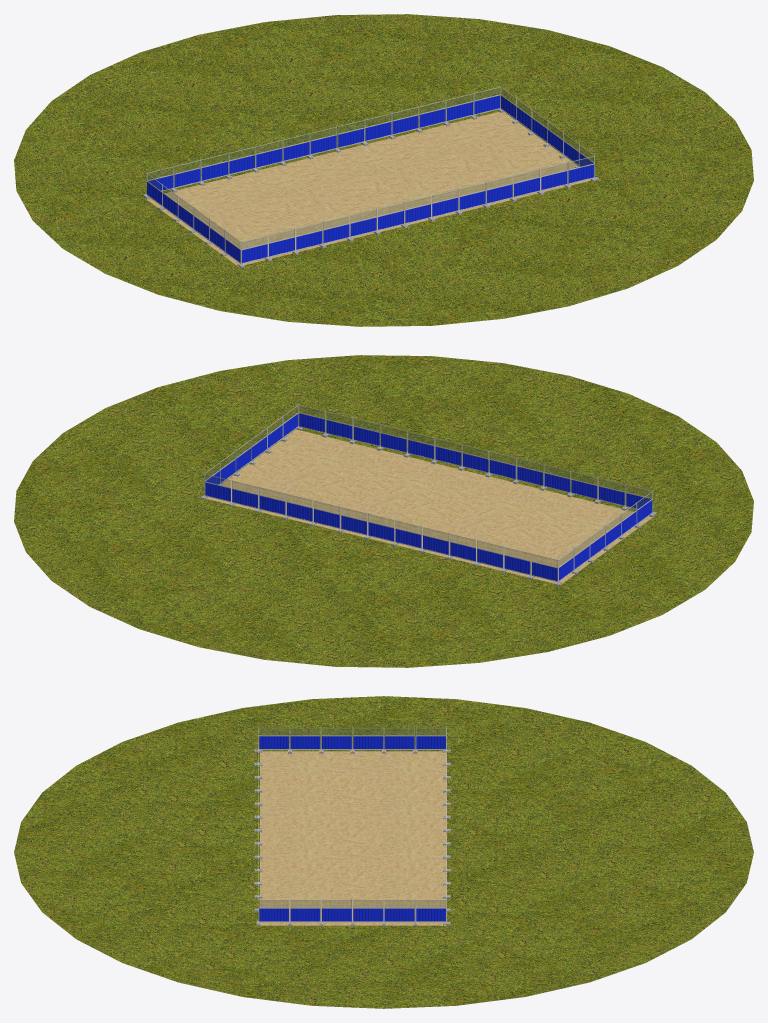
File: baugutSite.glb
The picture shows the model from 3 angles, top to bottom: view 1: azimuth 30°, elevation 25°; view 2: azimuth 150°, elevation 25°; view 3: azimuth 270°, elevation 25°; orthographic projection.
Parts seen in each view (by area): view 1: grassRound, sandDisplace, fence_04.001, fence_020.001, fence_021.001, fence_12.001, fence_026.001, fence_03.001, fence_08.001, fence_13.001, fence_09.001, fence_029.001 (+15 smaller); view 2: grassRound, sandDisplace, fence_09.001, fence_024.001, fence_029.001, fence_04.001, fence_13.001, fence_08.001, fence_025.001, fence_012, fence_031.001, fence_03.001 (+15 smaller); view 3: grassRound, sandDisplace, fence_14.001, fence_17.001, fence_15.001, fence_16.001, fence_18.001, fence_038.001, fence_033.001, fence_035.001, fence_032.001, fence_034.001 (+2 smaller).
Part boxes in pixels (<box>): grassRound: <box>14,14,753,326</box>; sandDisplace: <box>145,112,590,266</box>; fence_04.001: <box>228,146,255,175</box>; fence_020.001: <box>513,168,540,197</box>; fence_021.001: <box>268,228,295,257</box>; fence_12.001: <box>446,93,473,122</box>; fence_026.001: <box>404,195,431,224</box>; fence_03.001: <box>201,153,228,181</box>; fence_08.001: <box>337,119,364,148</box>; fence_13.001: <box>473,86,500,115</box>; fence_09.001: <box>365,112,391,142</box>; fence_029.001: <box>486,175,512,204</box>; grassRound: <box>14,355,753,667</box>; sandDisplace: <box>206,429,653,584</box>; fence_09.001: <box>313,500,340,529</box>; fence_024.001: <box>516,457,543,486</box>; fence_029.001: <box>380,424,407,453</box>; fence_04.001: <box>449,533,476,562</box>; fence_13.001: <box>204,473,231,502</box>; fence_08.001: <box>340,506,367,535</box>; fence_025.001: <box>489,451,516,479</box>; fence_012: <box>531,553,557,582</box>; fence_031.001: <box>299,404,325,433</box>; fence_03.001: <box>477,540,503,569</box>; grassRound: <box>14,696,753,1008</box>; sandDisplace: <box>260,751,446,925</box>; fence_14.001: <box>415,899,446,922</box>; fence_17.001: <box>321,899,352,922</box>; fence_15.001: <box>384,899,414,922</box>; fence_16.001: <box>353,899,383,922</box>; fence_18.001: <box>290,899,320,922</box>; fence_038.001: <box>259,899,289,922</box>; fence_033.001: <box>415,727,446,749</box>; fence_035.001: <box>321,727,352,749</box>; fence_032.001: <box>384,727,414,749</box>; fence_034.001: <box>353,727,383,749</box>.
Bounding box in the file's own units: 58.97 × 2.22 × 58.97.
6 materials, 3 textured.
